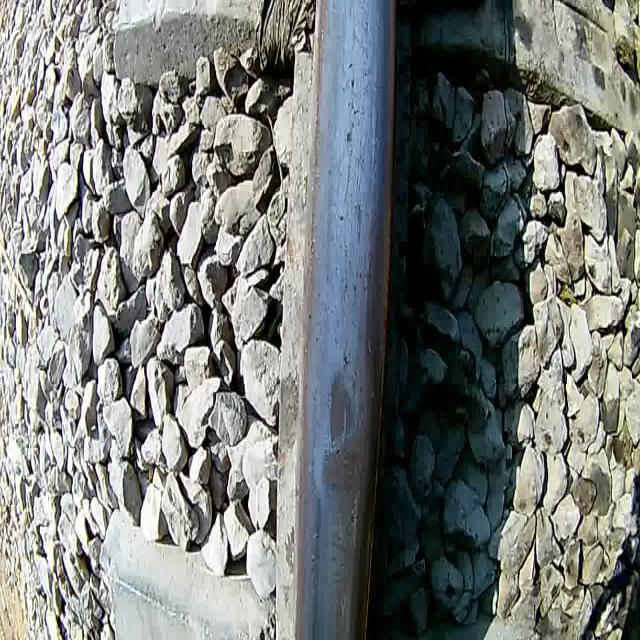Squats: (319, 438, 366, 497), (326, 365, 358, 449)
